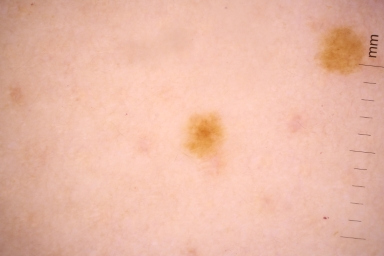nevus: (320, 31, 362, 69), (190, 116, 221, 155)
